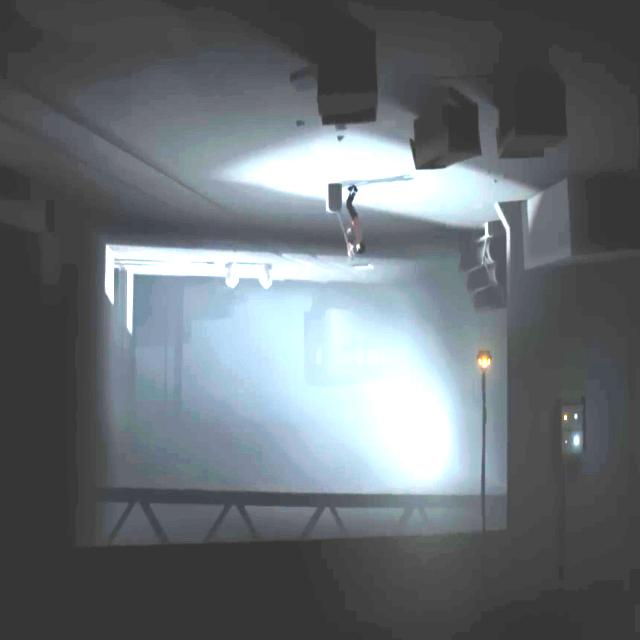boy: (347, 184, 365, 256)
interactible: (326, 182, 354, 262), (477, 351, 492, 368)
zombie: (226, 262, 239, 289), (259, 264, 273, 288)
